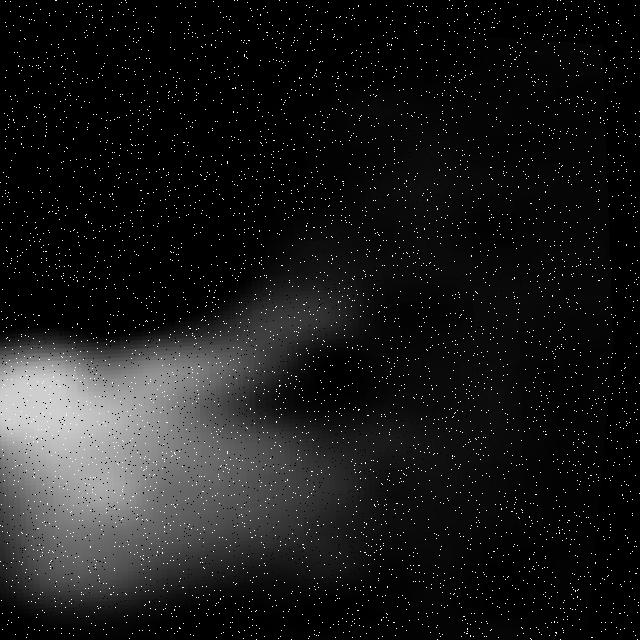person: (1, 269, 458, 632)
